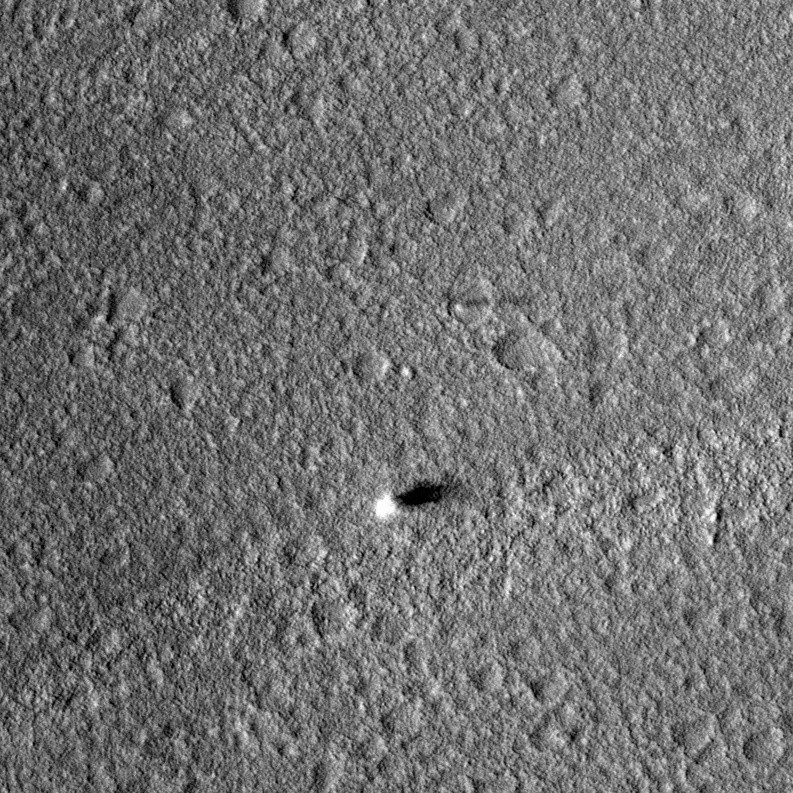dust_devil: (370, 477, 450, 525), (454, 293, 531, 314)
